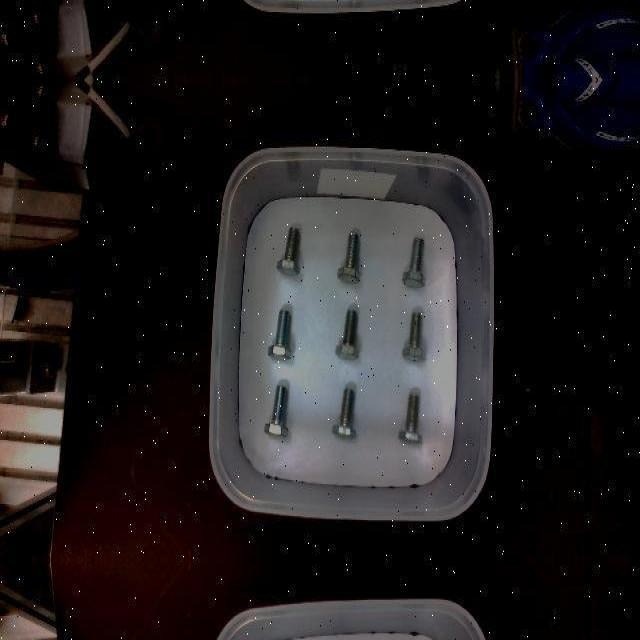screw: (276, 225, 301, 275), (398, 393, 423, 443), (336, 232, 360, 284), (401, 237, 425, 289), (267, 309, 291, 361), (402, 310, 426, 362), (264, 385, 288, 437), (335, 309, 359, 359), (331, 387, 355, 437)
